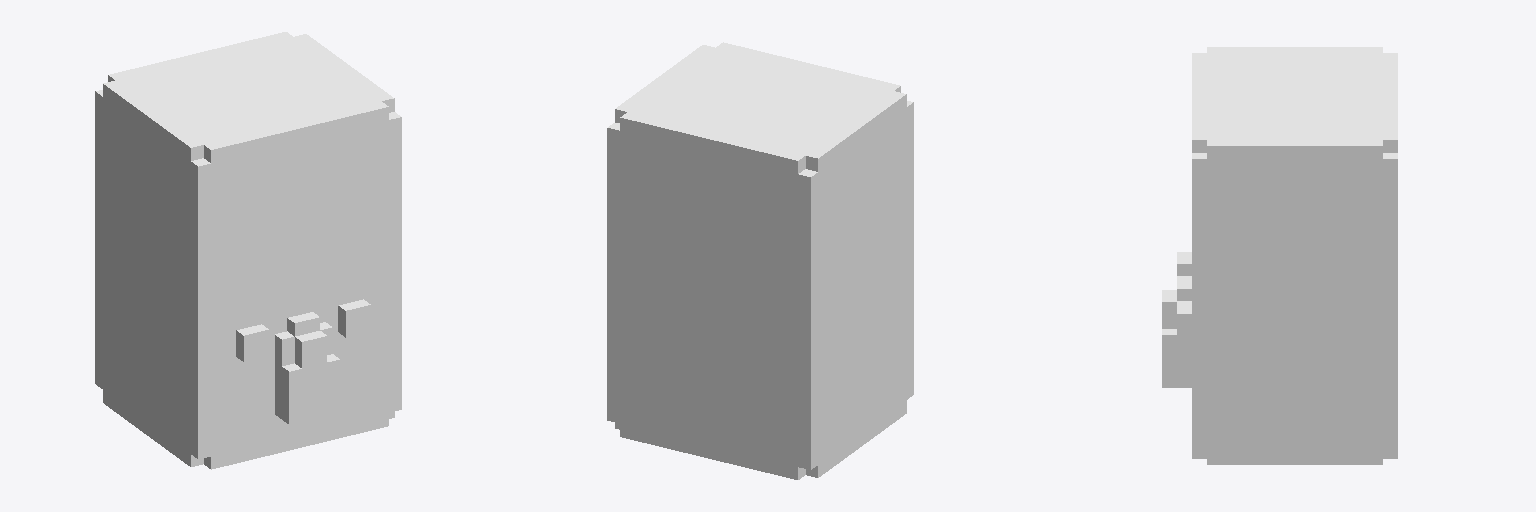
File: male_02-0.obj
The picture shows the model from 3 angles: view 1: azimuth 30°, elevation 25°; view 2: azimuth 150°, elevation 25°; view 3: azimuth 270°, elevation 25°; orthographic projection.
Parts seen in each view (by area): view 1: male_02-0; view 2: male_02-0; view 3: male_02-0.
Part boxes in pixels (bbox=[...]): male_02-0: bbox=[95, 32, 401, 469]; male_02-0: bbox=[607, 42, 913, 479]; male_02-0: bbox=[1162, 47, 1397, 464].
Size of the model in its own units: 16 by 24 by 16.